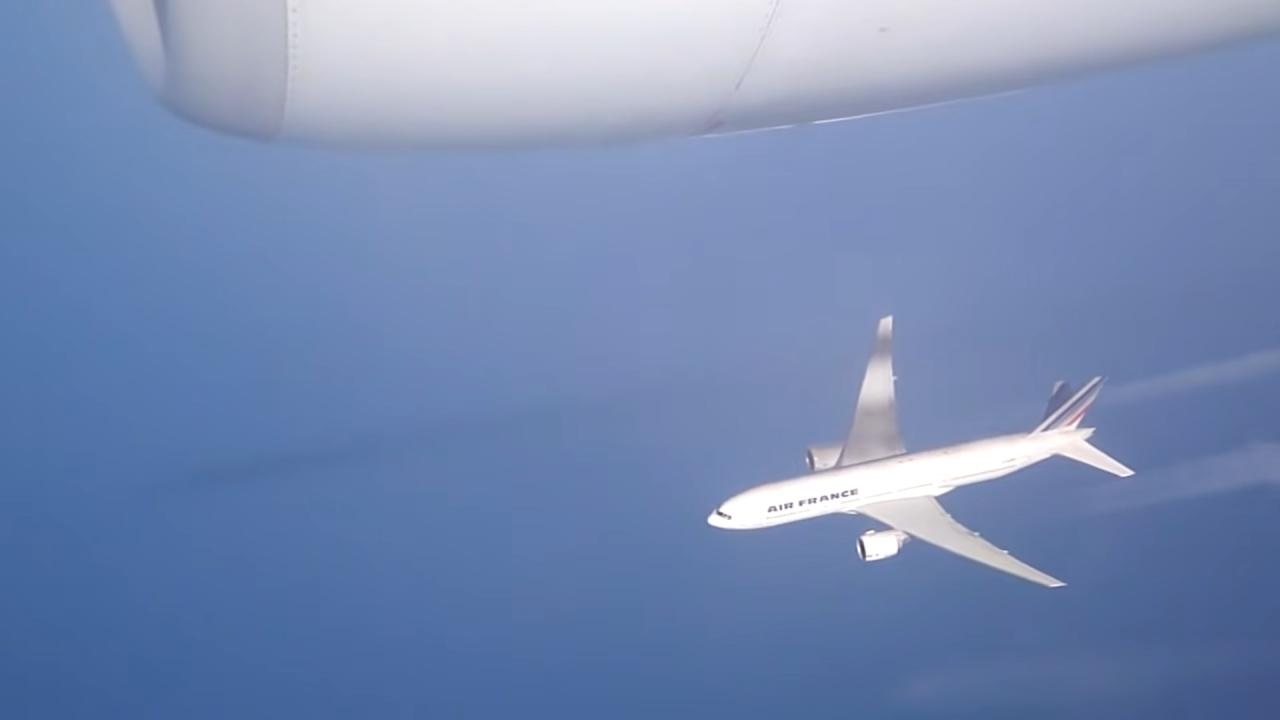Airplane: (694, 303, 1148, 596)
